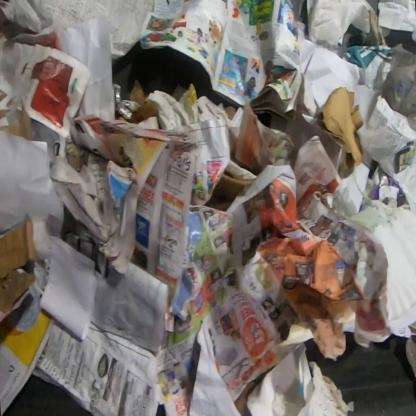cardboard: (316, 86, 366, 176), (0, 221, 36, 314), (204, 170, 256, 212), (115, 80, 159, 125)
soft_plastic: (372, 43, 415, 132), (113, 83, 142, 121)
